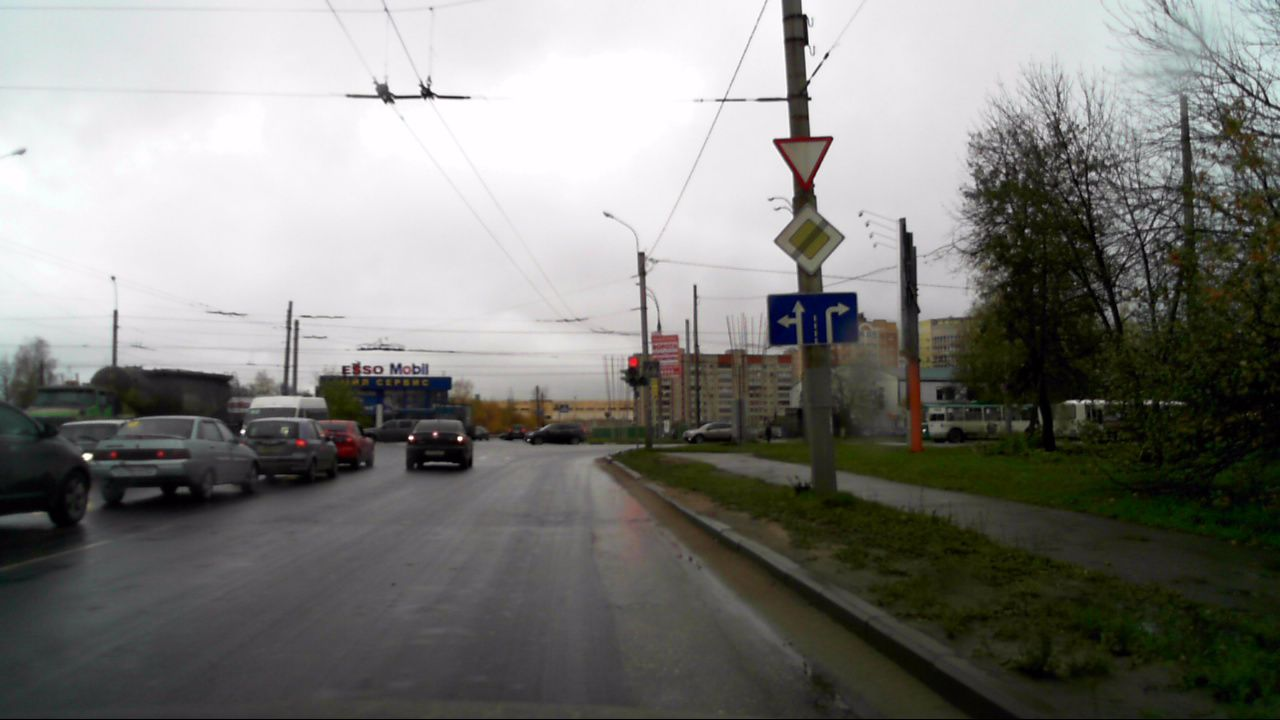main road: (774, 204, 845, 275)
